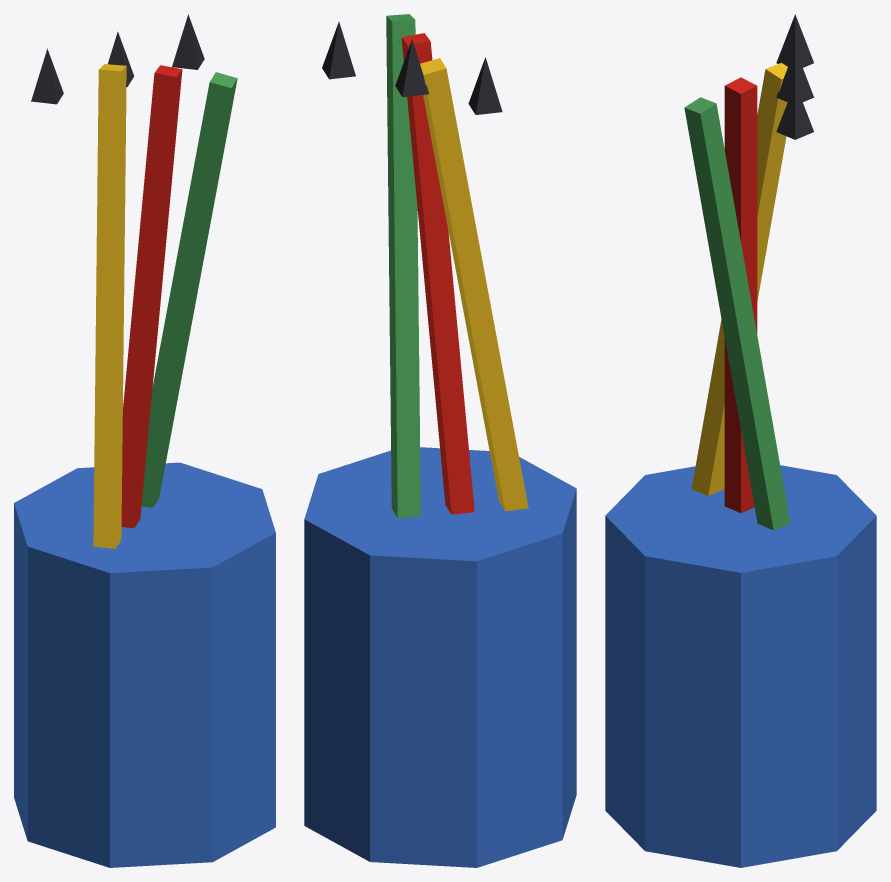
Rendered from pencil_cup.glb.
3 views of the same model, side by side, from view 1: azimuth 30°, elevation 25°; view 2: azimuth 150°, elevation 25°; view 3: azimuth 270°, elevation 25° (orthographic). The views are drawn at different scales.
Visible parts, largest first — view 1: pencil_cup; view 2: pencil_cup; view 3: pencil_cup.
Boxes of the visible parts, x1=… form: pencil_cup: x1=14, y1=14, x2=275, y2=867; pencil_cup: x1=304, y1=14, x2=576, y2=867; pencil_cup: x1=605, y1=14, x2=876, y2=867.
Bounding box in the file's own units: 0.1 × 0.31 × 0.1.
